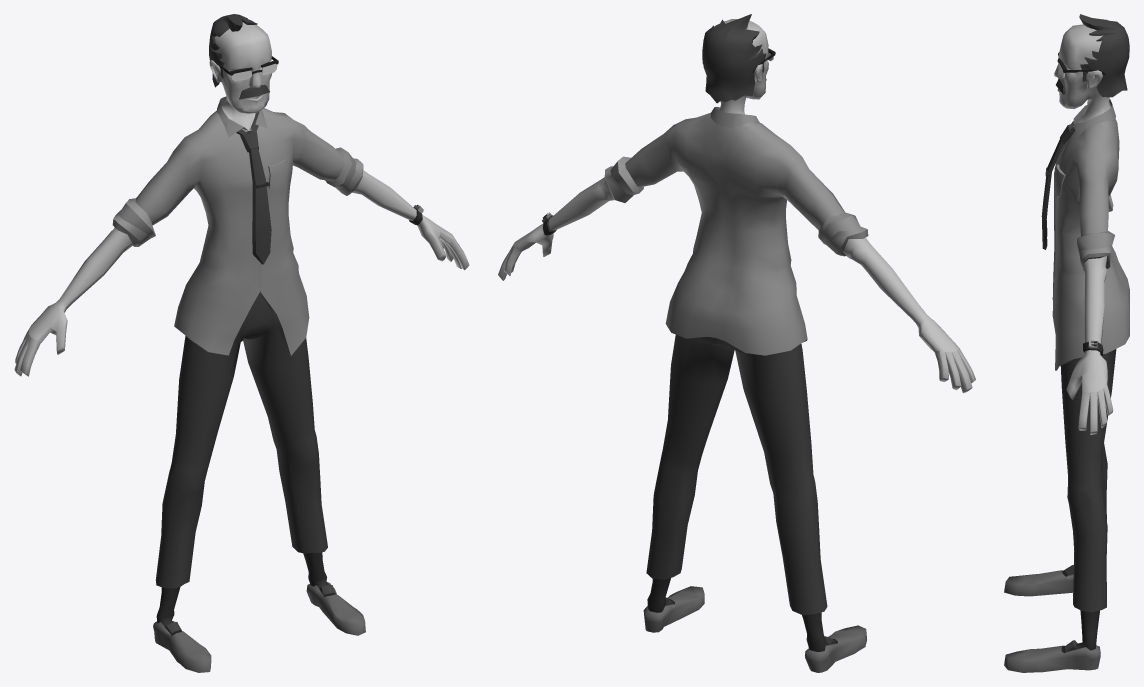
Rendered from office_jockey.FBX.
The picture shows the model from 3 angles, left to right: view 1: azimuth 30°, elevation 25°; view 2: azimuth 150°, elevation 25°; view 3: azimuth 270°, elevation 25°; orthographic projection. The views are drawn at different scales.
Visible parts, largest first — view 1: office_jockey_body, office_jockey_tie; view 2: office_jockey_body; view 3: office_jockey_body, office_jockey_tie.
Part boxes in pixels (x1,y1,x2,y2): office_jockey_body: (14, 14, 469, 672); office_jockey_tie: (236, 124, 271, 264); office_jockey_body: (498, 14, 975, 672); office_jockey_body: (1004, 14, 1129, 672); office_jockey_tie: (1041, 121, 1074, 249).
Bounding box in the file's own units: 64.95 × 83.34 × 15.58.
